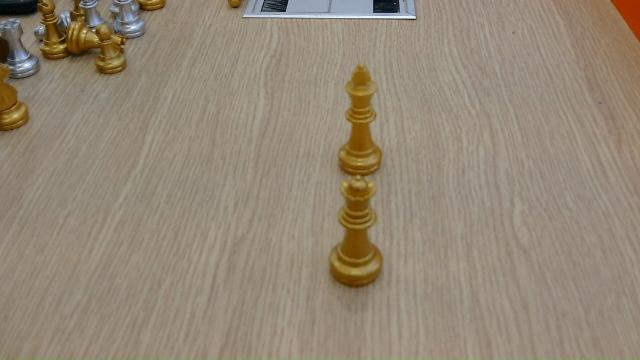black_king: (336, 61, 382, 175)
black_queen: (329, 173, 383, 288)
